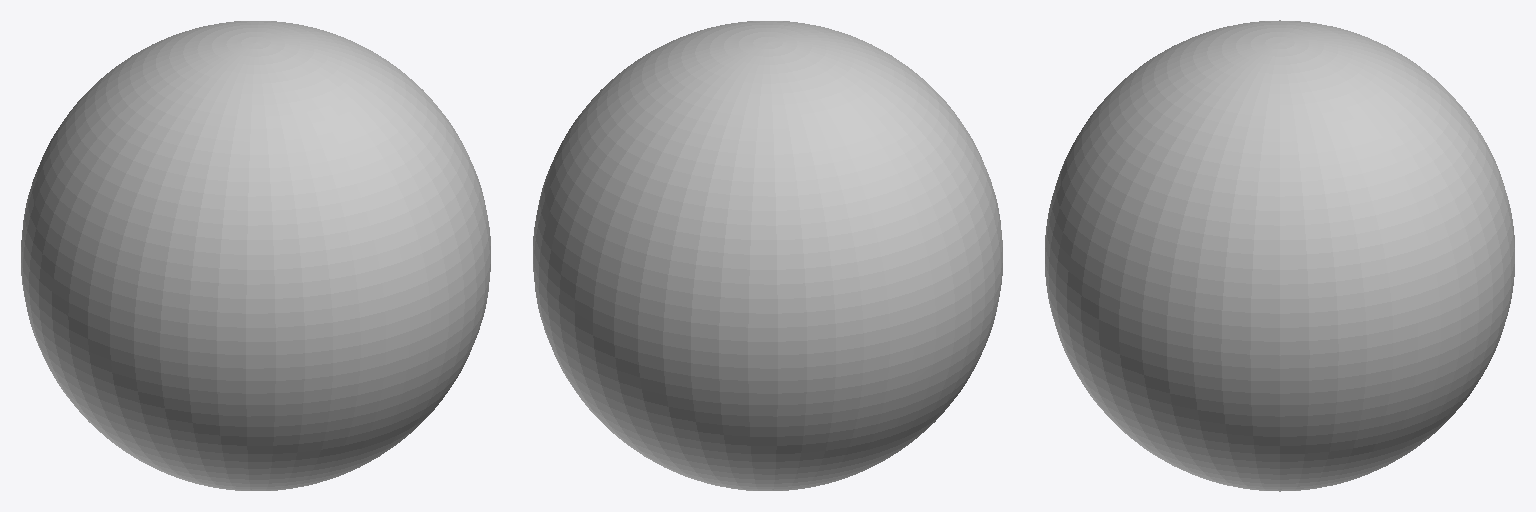
File: Mercury.obj
3 renders of one model, left to right at view 1: azimuth 30°, elevation 25°; view 2: azimuth 150°, elevation 25°; view 3: azimuth 270°, elevation 25°, orthographic.
Parts seen in each view (by area): view 1: pSphere2; view 2: pSphere2; view 3: pSphere2.
Boxes of the visible parts, x1=… form: pSphere2: x1=21, y1=21, x2=490, y2=490; pSphere2: x1=533, y1=21, x2=1002, y2=490; pSphere2: x1=1045, y1=20, x2=1514, y2=491.
Bounding box in the file's own units: 0.974 × 0.974 × 0.9721.